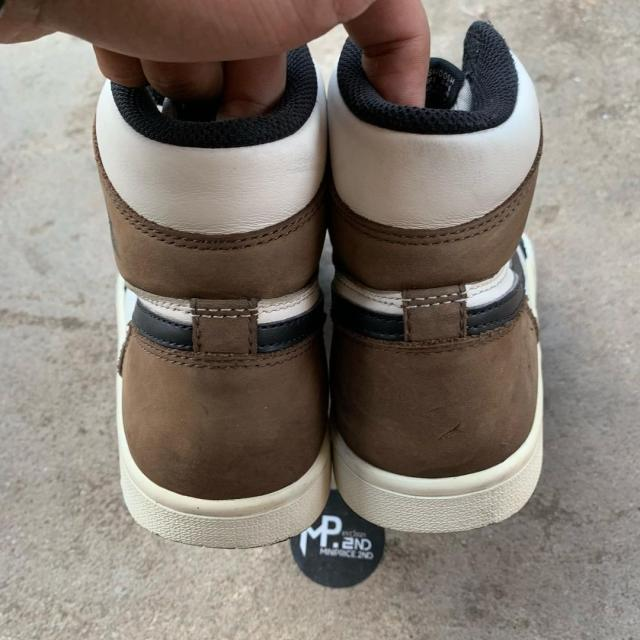nike original jordan 1: (96, 30, 336, 554), (327, 6, 552, 538)
